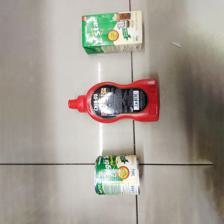Chinsu: (67, 78, 161, 122)
NSPN_Hop: (80, 11, 144, 51)
NSPN_Lon: (94, 151, 141, 197)
